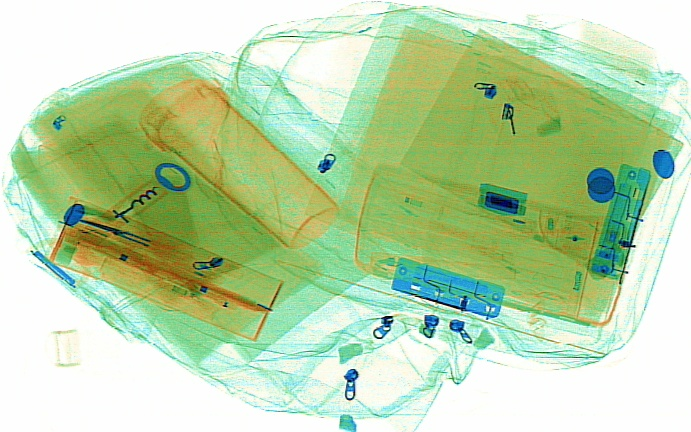scissors: (77, 217, 193, 265)
